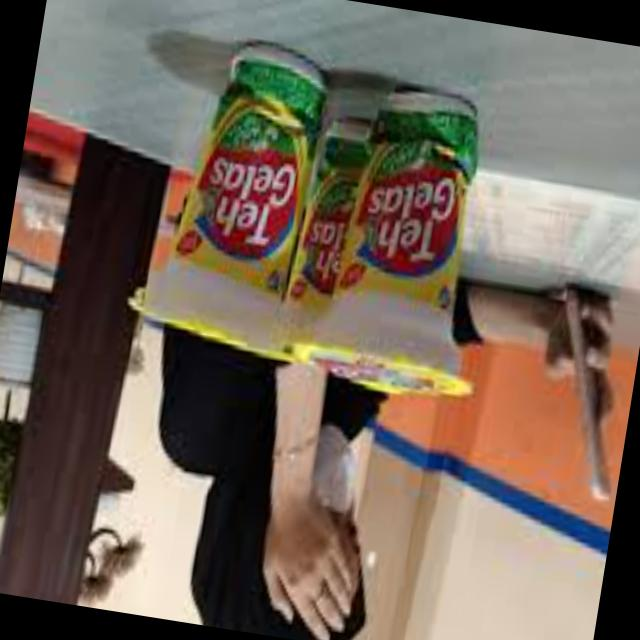GelasPlastik: (298, 74, 523, 418), (125, 25, 343, 378)
